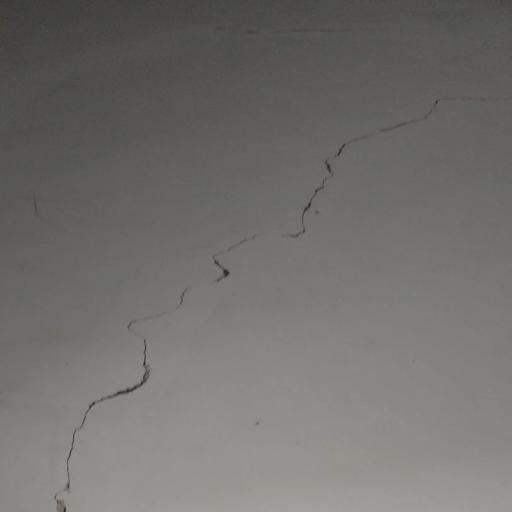major_crack: (50, 85, 512, 512)
